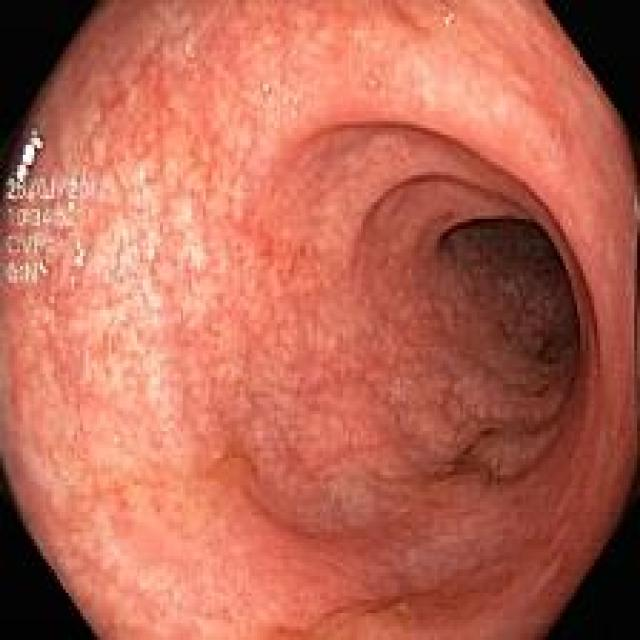ulcerative-colitis-grade-1: (2, 4, 638, 640)
